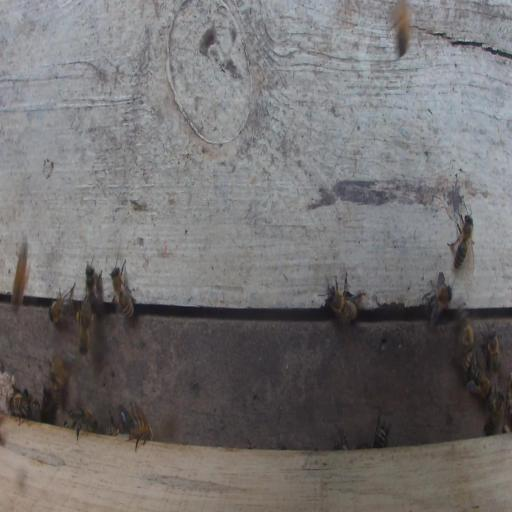nonpollenbee: (324, 272, 367, 325), (447, 210, 475, 270), (109, 258, 136, 320), (422, 270, 453, 324), (465, 354, 491, 400), (390, 2, 411, 57), (48, 283, 75, 325), (69, 405, 98, 439), (454, 306, 474, 353), (85, 266, 104, 313), (129, 413, 152, 450), (487, 386, 504, 436), (483, 329, 501, 374), (372, 413, 390, 448), (503, 375, 512, 431), (9, 392, 30, 416), (42, 384, 56, 418), (105, 412, 124, 436), (30, 398, 41, 421)
pollen: (76, 311, 79, 321), (91, 313, 94, 322)
pollenbee: (12, 237, 31, 310), (76, 298, 94, 357)
